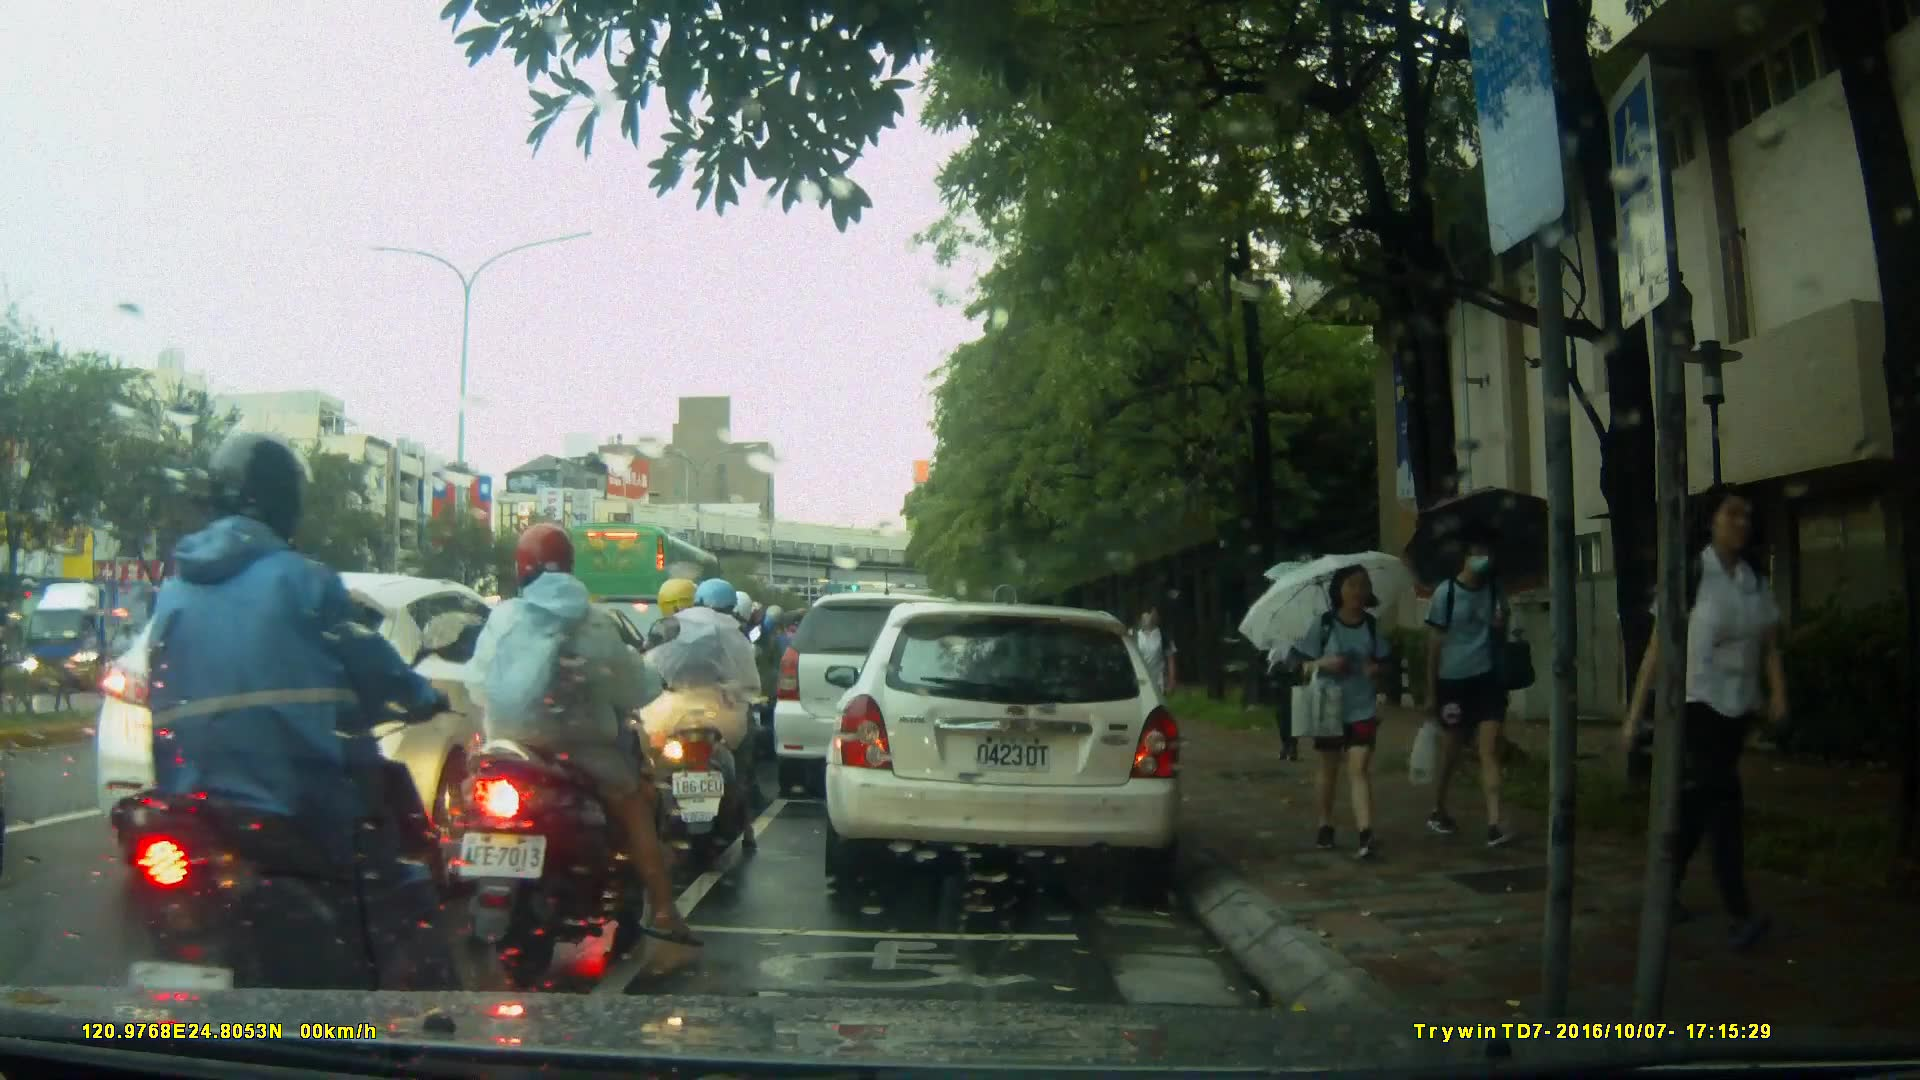pedestrian: (1649, 468, 1789, 938), (1412, 519, 1541, 854), (1292, 548, 1416, 874), (1266, 571, 1318, 770), (1125, 596, 1178, 759)
rider: (71, 428, 441, 1058), (449, 520, 711, 969), (625, 584, 774, 862), (666, 590, 763, 800)
vehicle: (102, 569, 600, 883), (822, 604, 1187, 883), (774, 595, 995, 802), (560, 521, 742, 663), (20, 576, 199, 697)
